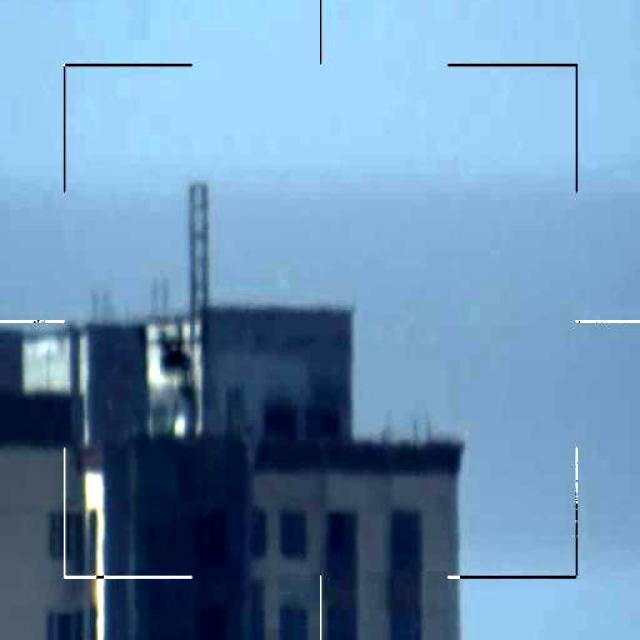bird: (140, 324, 212, 411)
